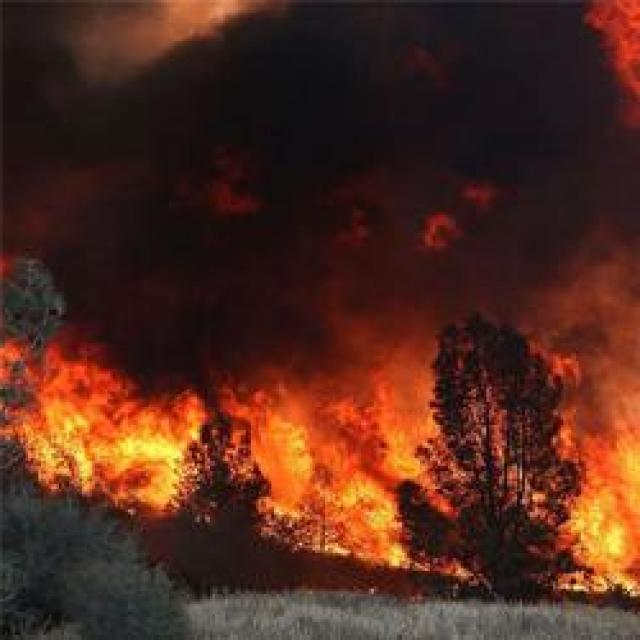fire: (12, 364, 204, 502), (570, 417, 640, 587), (340, 480, 406, 560), (259, 412, 321, 476)
smoke: (332, 48, 486, 196), (401, 215, 608, 322), (340, 251, 437, 473), (90, 19, 240, 160), (73, 140, 178, 282), (0, 5, 105, 134), (566, 238, 640, 414), (182, 168, 286, 288)
